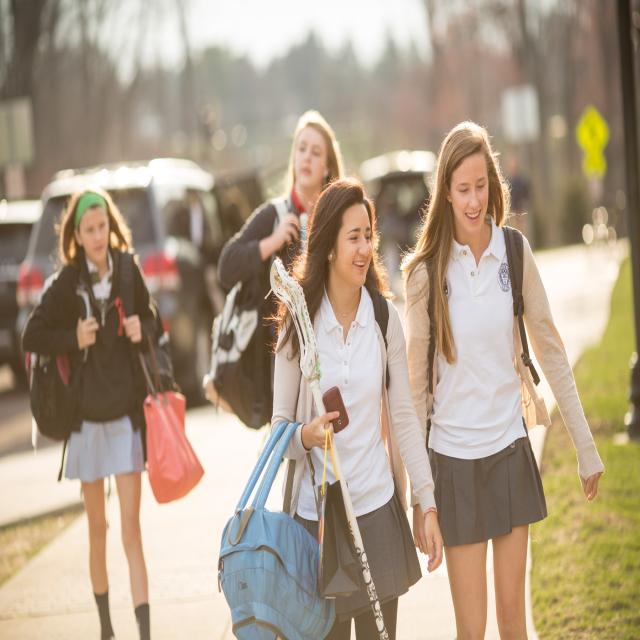body: (396, 116, 608, 640), (213, 172, 447, 639), (18, 180, 210, 639), (207, 106, 349, 433), (168, 171, 270, 311), (500, 151, 535, 237)
